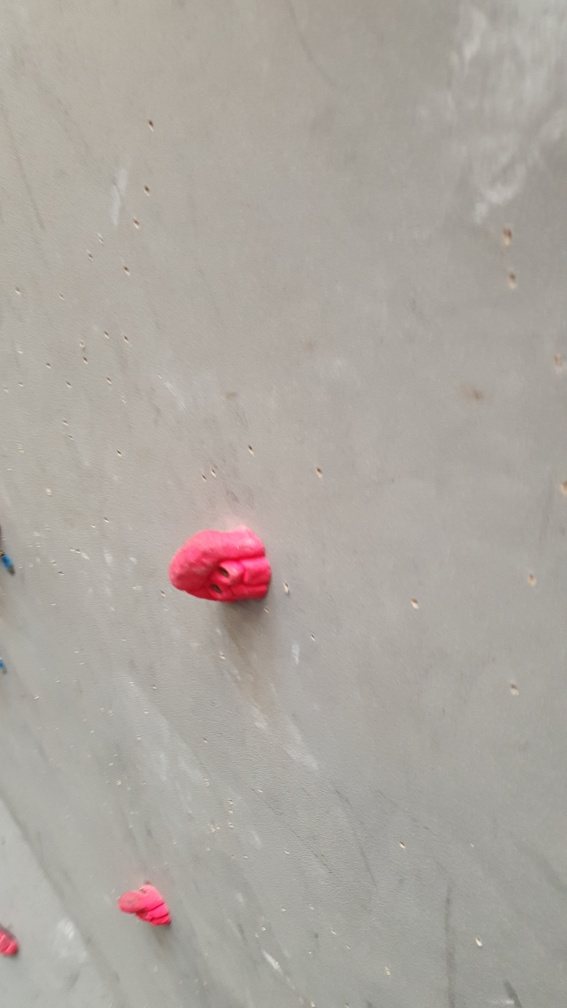Jug: (168, 524, 281, 610), (119, 881, 178, 931)
